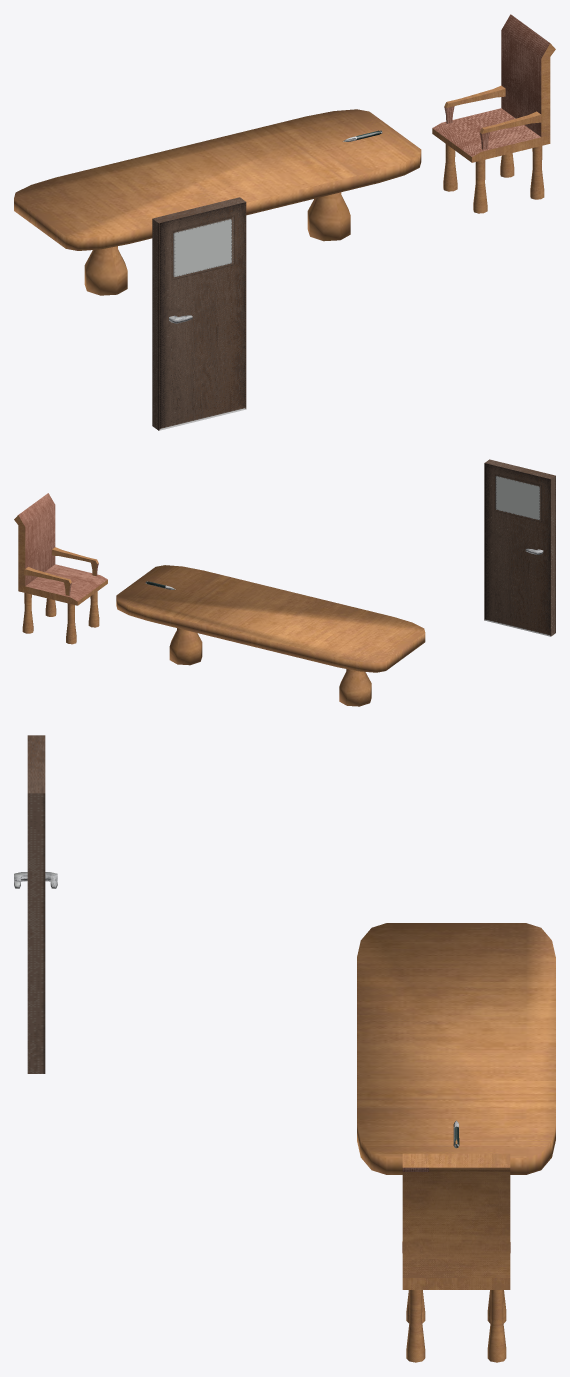
File: Office.fbx
The picture shows the model from 3 angles, top to bottom: view 1: azimuth 30°, elevation 25°; view 2: azimuth 150°, elevation 25°; view 3: azimuth 270°, elevation 25°; orthographic projection. The views are drawn at different scales.
Visible parts, largest first — view 1: Table, Cube.006, Cube.005; view 2: Table, Cube.006, Cube.005; view 3: Table, Cube.005, Cube.006.
Boxes of the visible parts, box(x1,y1,x2,y2) form: Table: box(14, 109, 421, 295); Cube.006: box(152, 197, 246, 430); Cube.005: box(432, 14, 555, 213); Table: box(116, 565, 425, 706); Cube.006: box(484, 459, 555, 636); Cube.005: box(14, 493, 107, 644); Table: box(357, 923, 555, 1174); Cube.005: box(402, 1153, 510, 1362); Cube.006: box(27, 735, 45, 1073).
Bounding box in the file's own units: 693 × 256 × 448.
